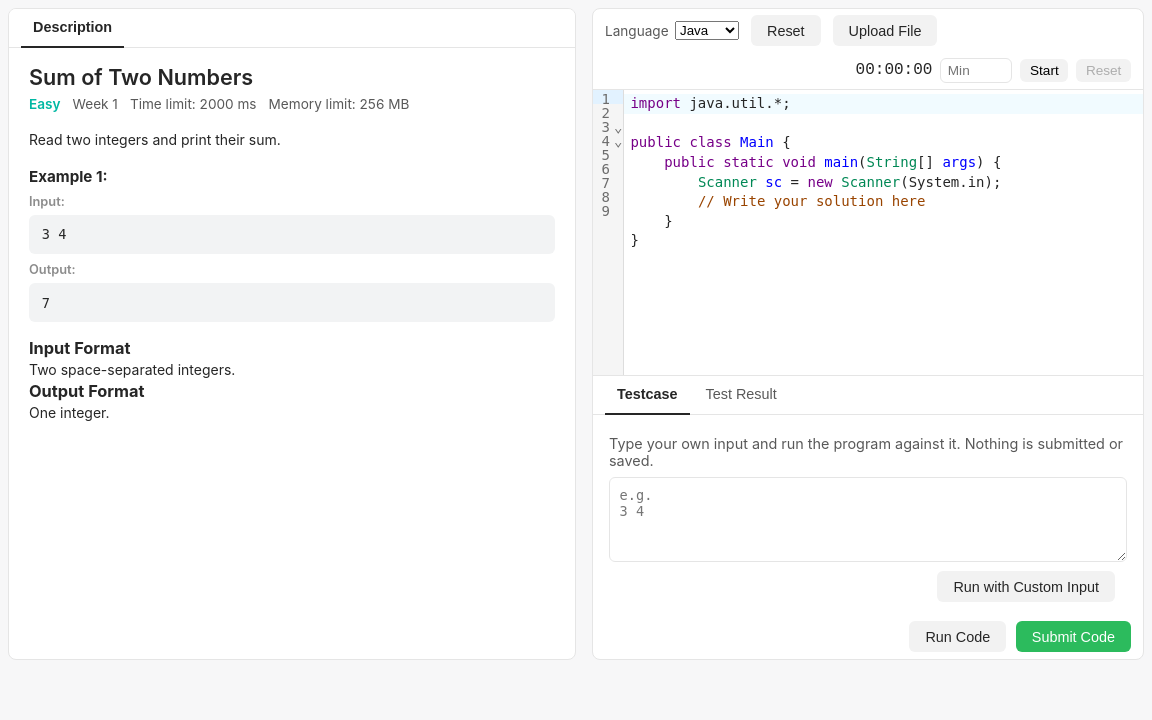
Scenario: ProblemDetailPage › reports a failed run instead of silently doing nothing
The width and height of the screenshot is (1152, 720).
Expected: the heading "Sum of Two Numbers" is shown, left=29, top=64, right=253, bottom=90
Click the button "Run Code". click: coordinates (958, 637)
box: left=909, top=621, right=1006, bottom=652
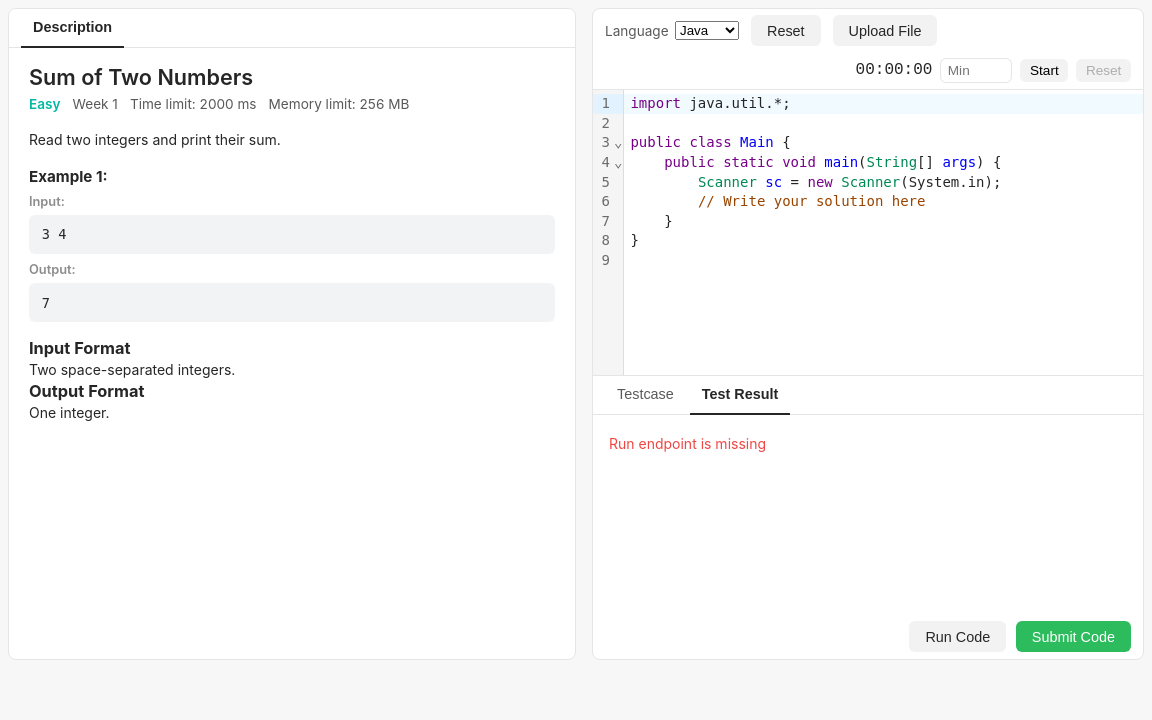
Result: the text "Run endpoint is missing" is shown at left=609, top=435, right=766, bottom=452
